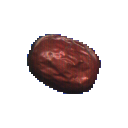gd: (19, 23, 116, 123)
